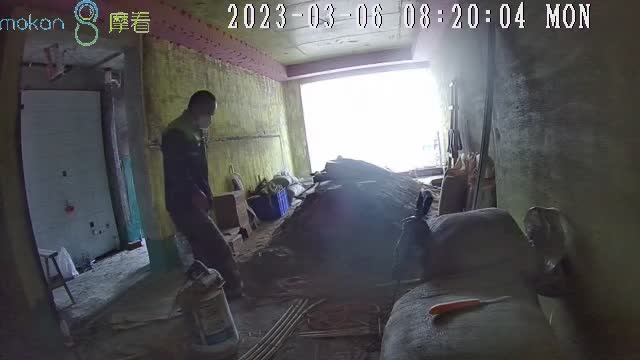people: (162, 89, 243, 298)
window: (300, 58, 435, 177)
